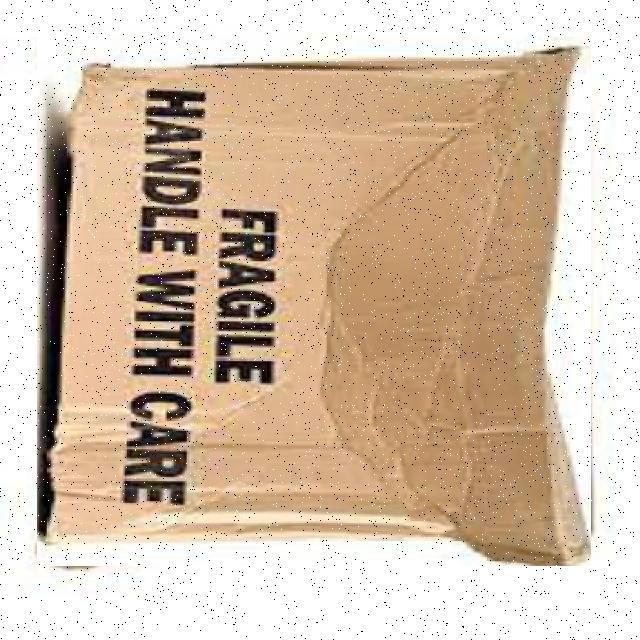defect: (37, 34, 591, 566)
